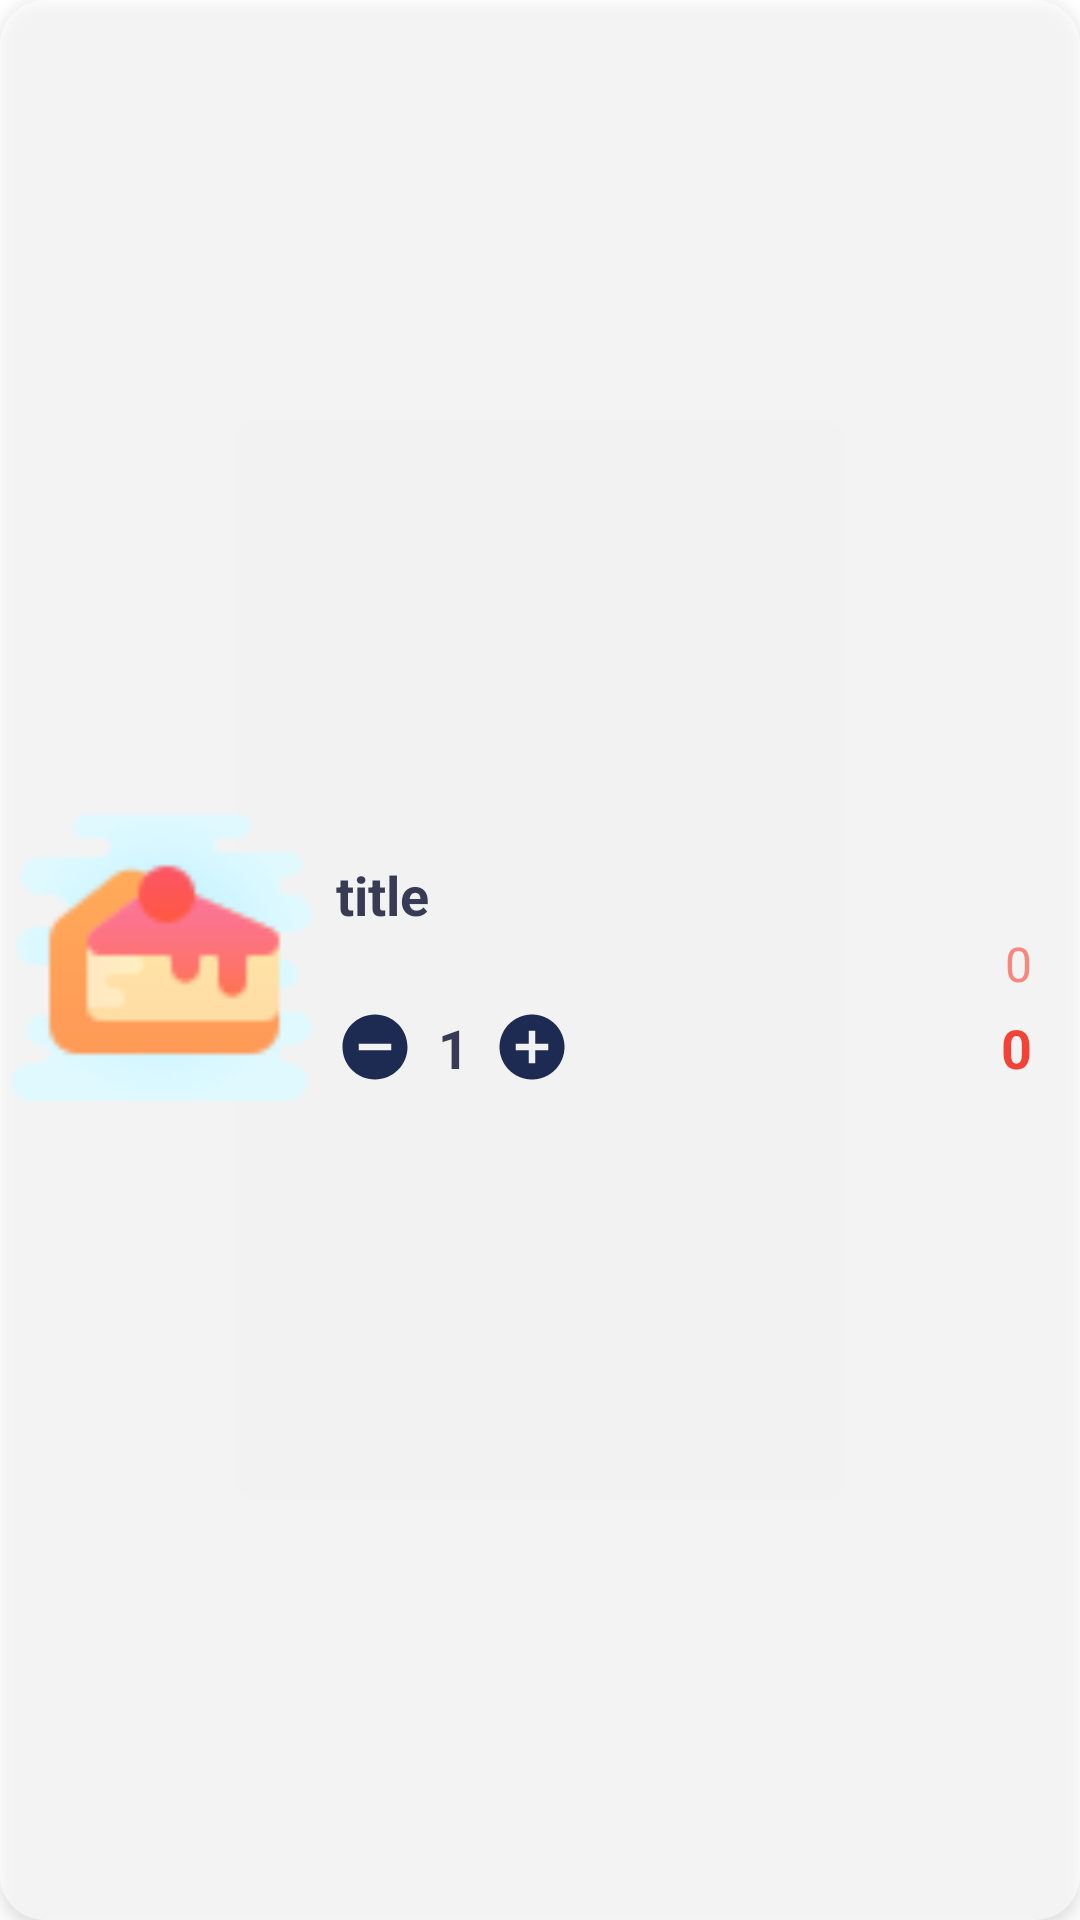

Icons on this 1080*1920 Android screen, each with its box as (x1=x1, y1=y1, x2=x2, y2=y2):
add circle: (x1=499, y1=1014, x2=565, y2=1080)
remove circle: (x1=342, y1=1014, x2=408, y2=1080)
tiramisu: (x1=34, y1=832, x2=289, y2=1083)
